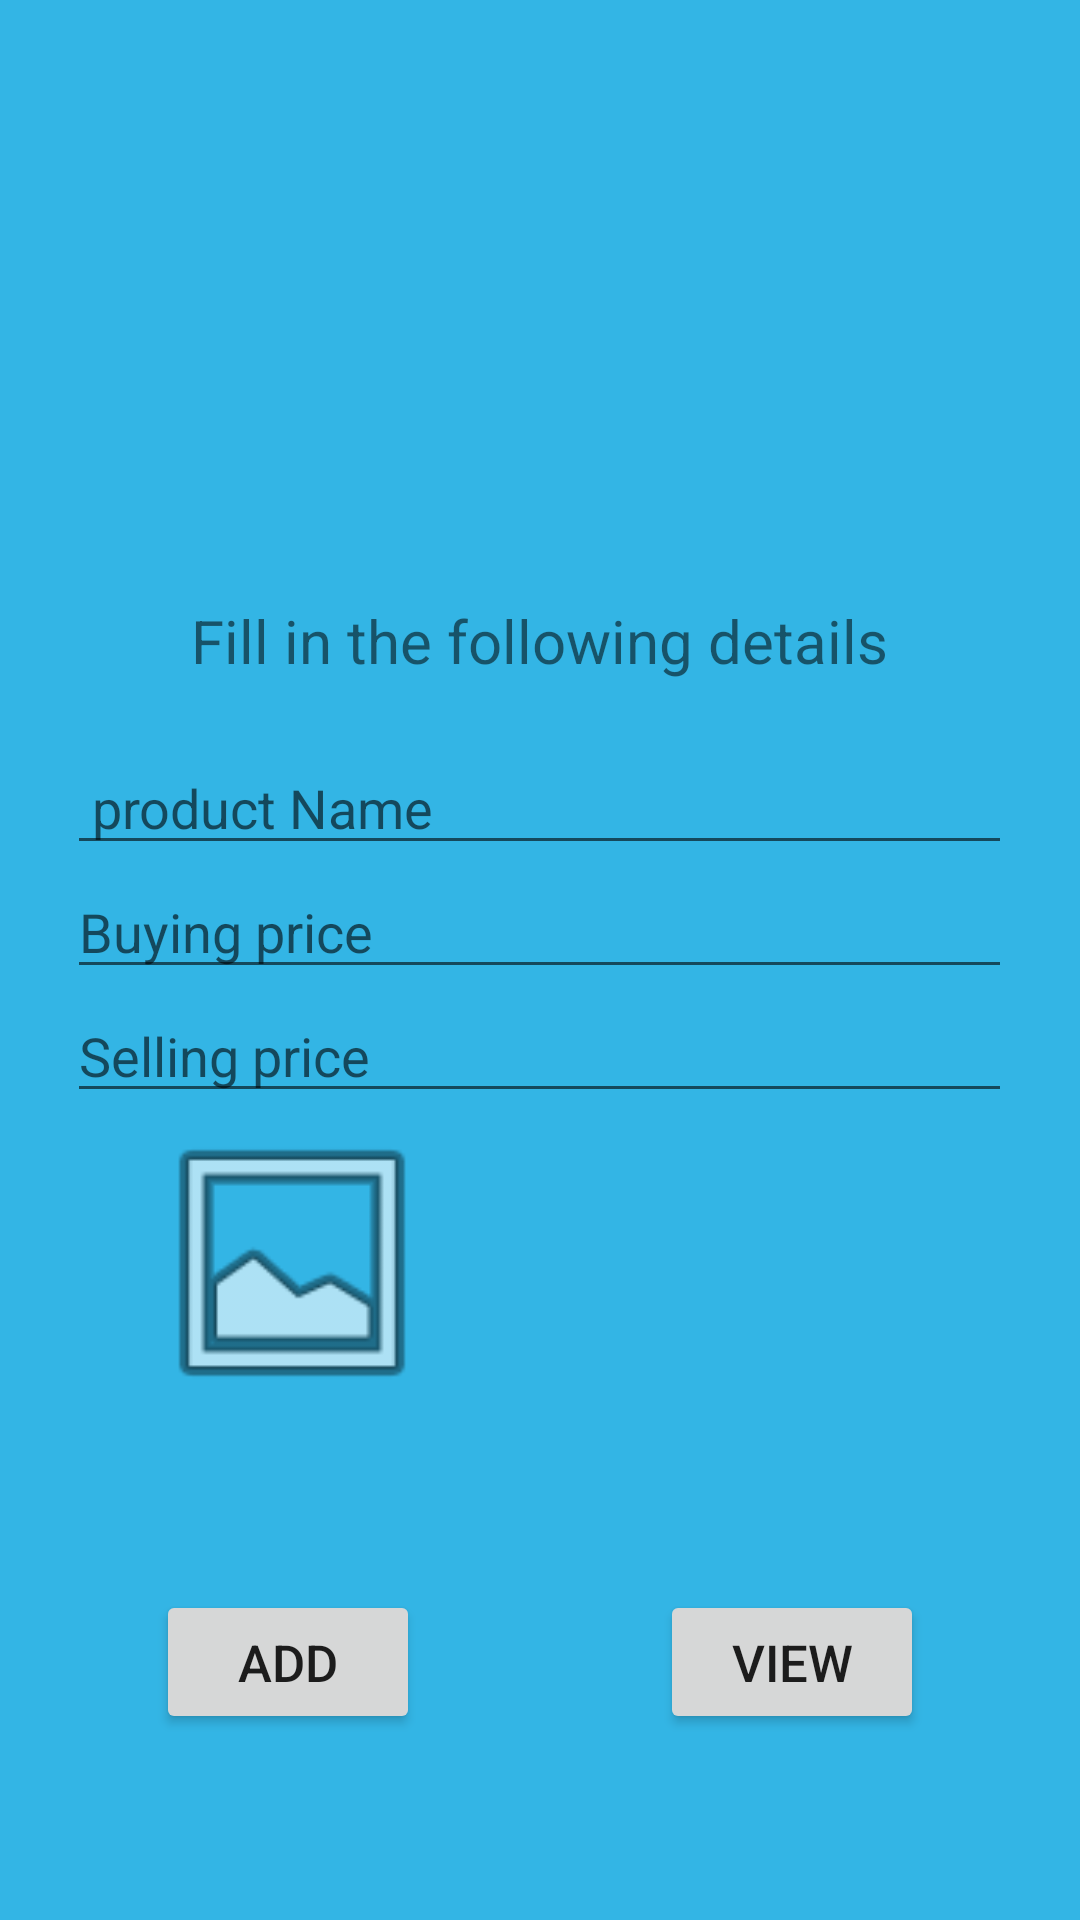

Locate icon controls on the screen. Image size 1080 × 1920, boxes as (x1, y1, x2, y2).
gallery: (179, 1150, 405, 1376)
